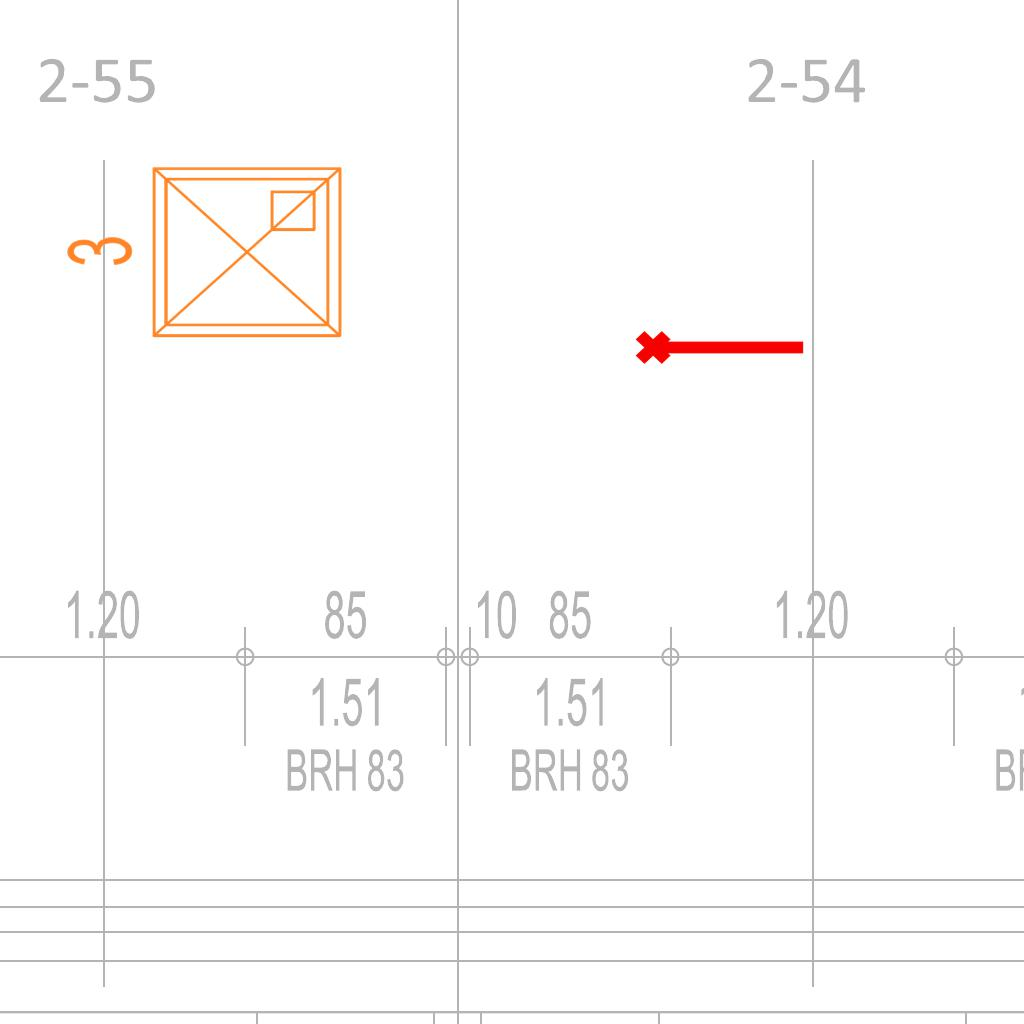ASR_Ansaugoeffnung: (633, 322, 809, 368)
Einbaudownlights_LED_Konferenzraeume: (56, 152, 356, 360)
